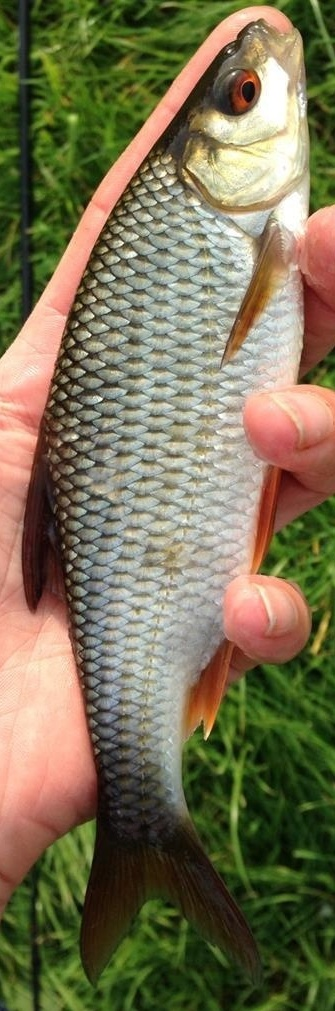Scardinius erythrophthalmus: (20, 16, 315, 991)
